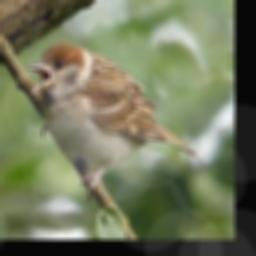Sparrow: (28, 39, 198, 203)
